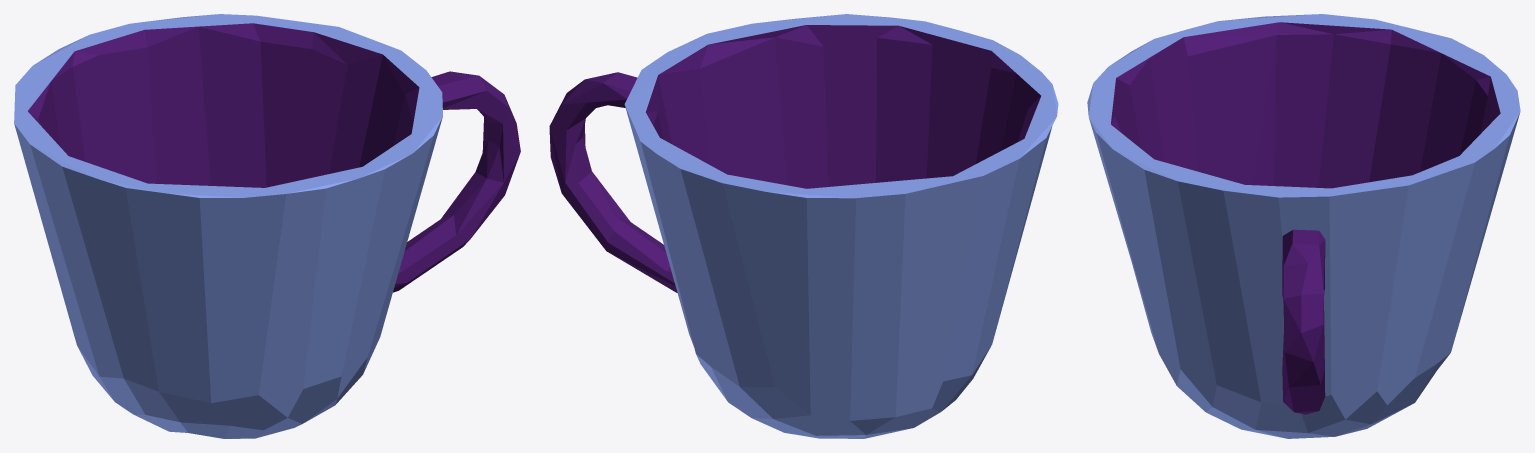
Rendered from Cup02.fbx.
3 views of the same model, side by side, from view 1: azimuth 30°, elevation 25°; view 2: azimuth 150°, elevation 25°; view 3: azimuth 270°, elevation 25° (orthographic).
Visible parts, largest first — view 1: Cup02LowPoly; view 2: Cup02LowPoly; view 3: Cup02LowPoly.
Part boxes in pixels (x1=…): Cup02LowPoly: x1=14, y1=14, x2=520, y2=438; Cup02LowPoly: x1=549, y1=14, x2=1058, y2=438; Cup02LowPoly: x1=1087, y1=14, x2=1520, y2=438.
Bounding box in the file's own units: 11.37 × 6.93 × 8.98.
